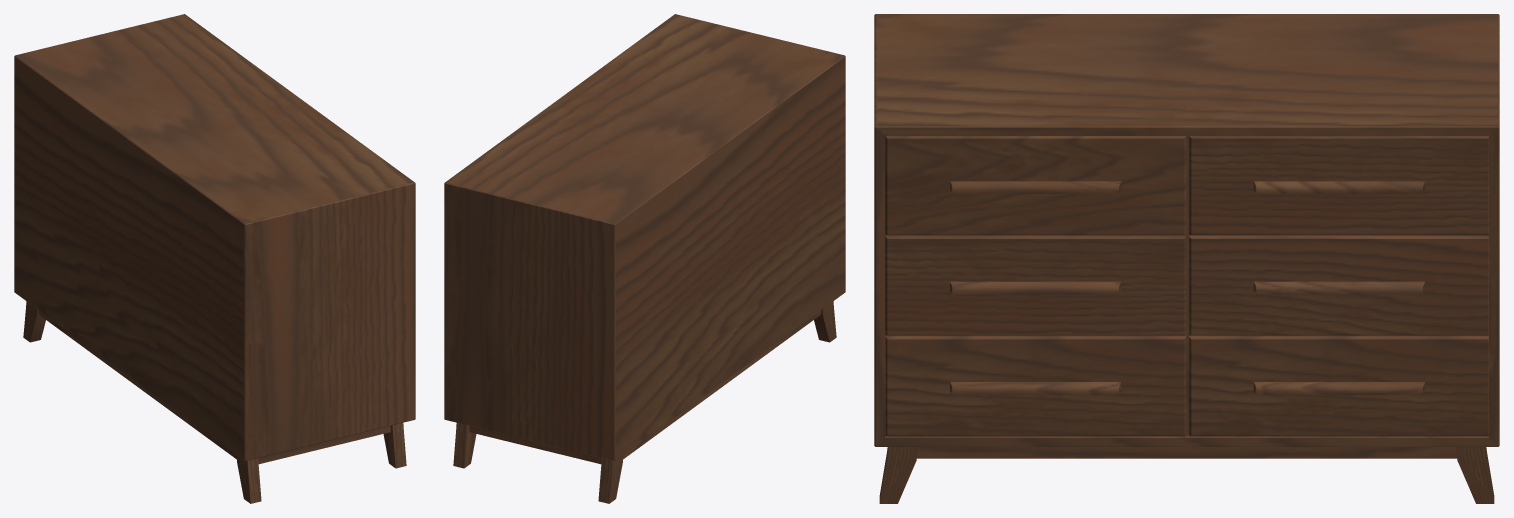
The model's file is dresser.glb.
3 renders of one model, left to right at view 1: azimuth 30°, elevation 25°; view 2: azimuth 150°, elevation 25°; view 3: azimuth 270°, elevation 25°, orthographic. The views are drawn at different scales.
Parts seen in each view (by area): view 1: Cube.027; view 2: Cube.027; view 3: Cube.027.
Part boxes in pixels (bbox=[...]): Cube.027: bbox=[14, 14, 415, 503]; Cube.027: bbox=[444, 14, 845, 503]; Cube.027: bbox=[874, 14, 1499, 503].
Size of the model in its own units: 0.5983 by 0.9189 by 1.36.
1 material, 1 textured.
